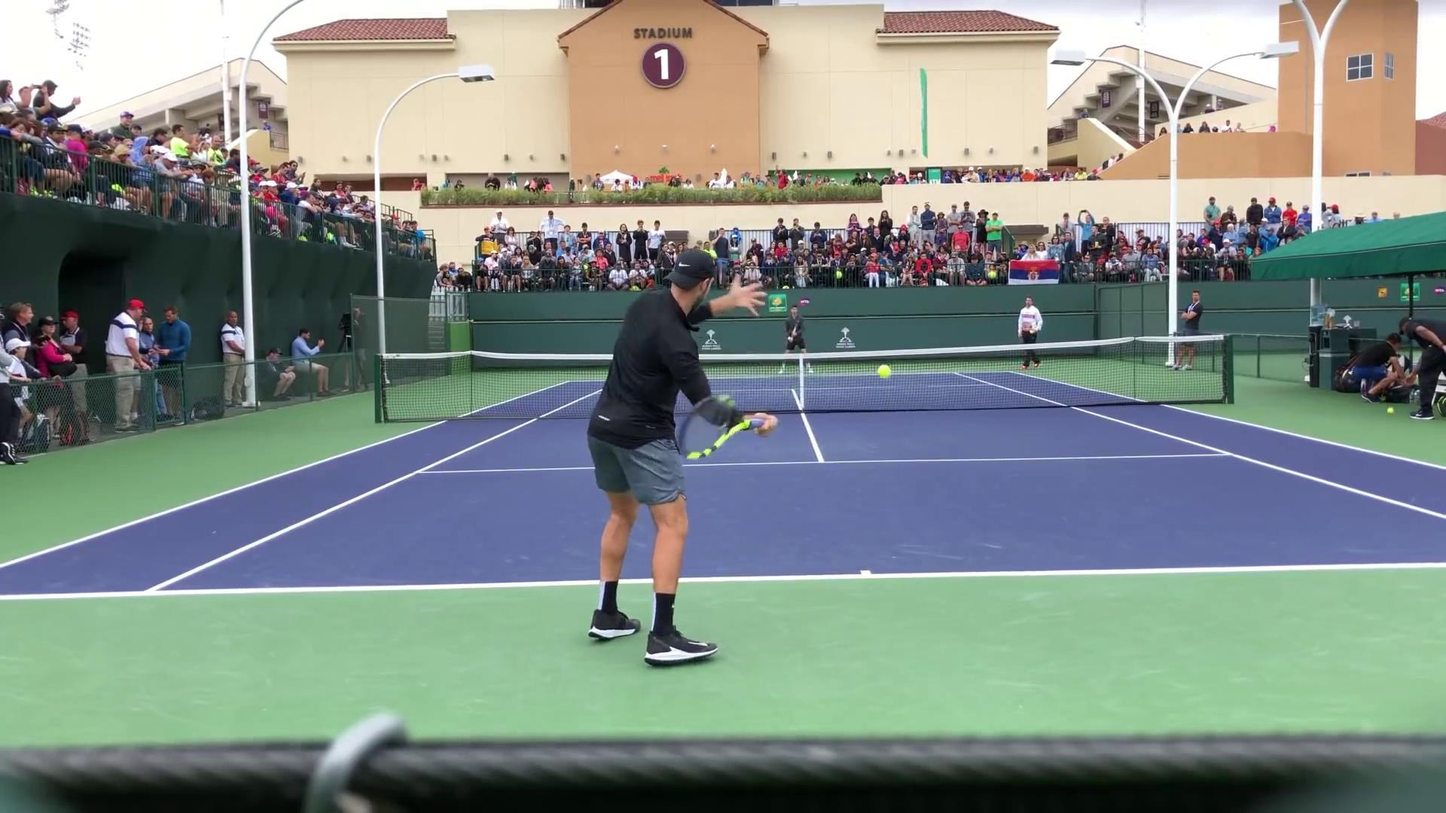ball: (874, 362, 894, 381), (1384, 403, 1398, 417)
